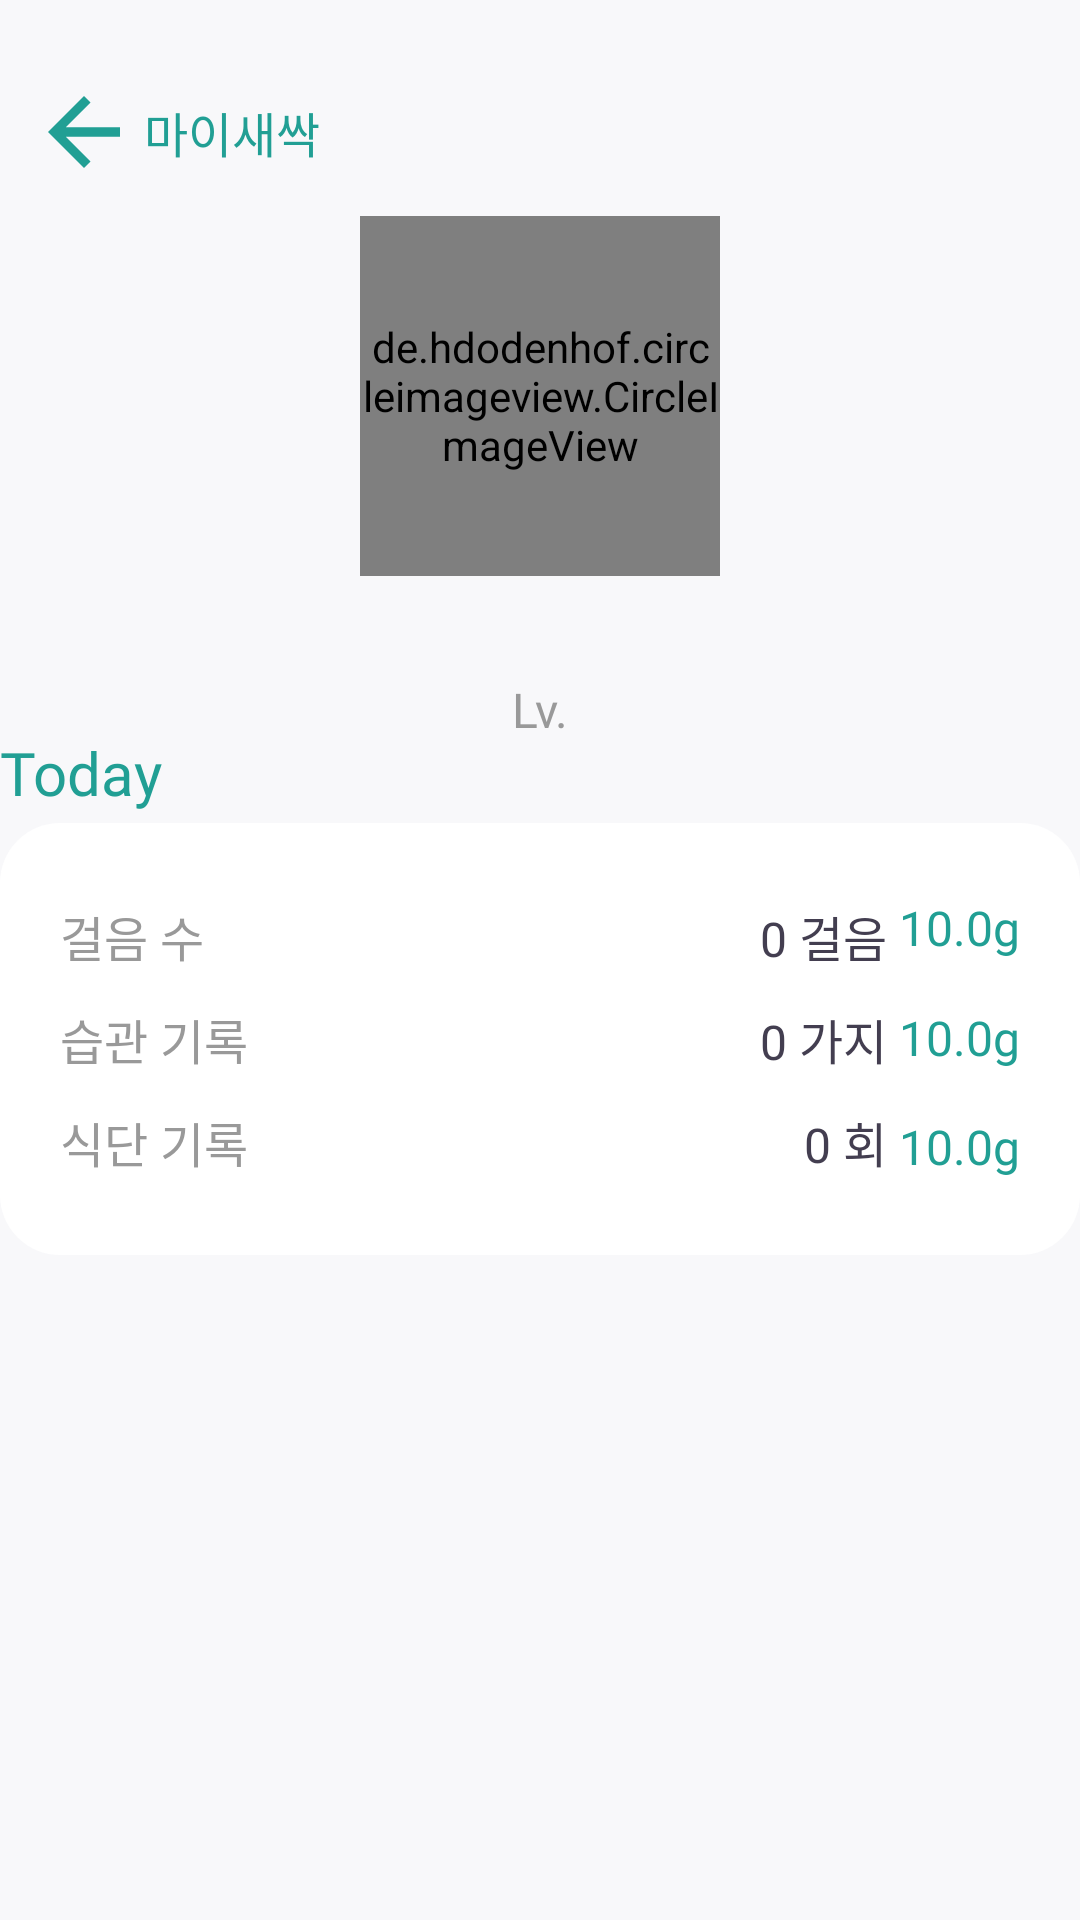

Screen size 1080 × 1920. Icon name, then its box in pixels as (x1, y1, x2, y2):
backward arrow: (48, 96, 120, 168)
